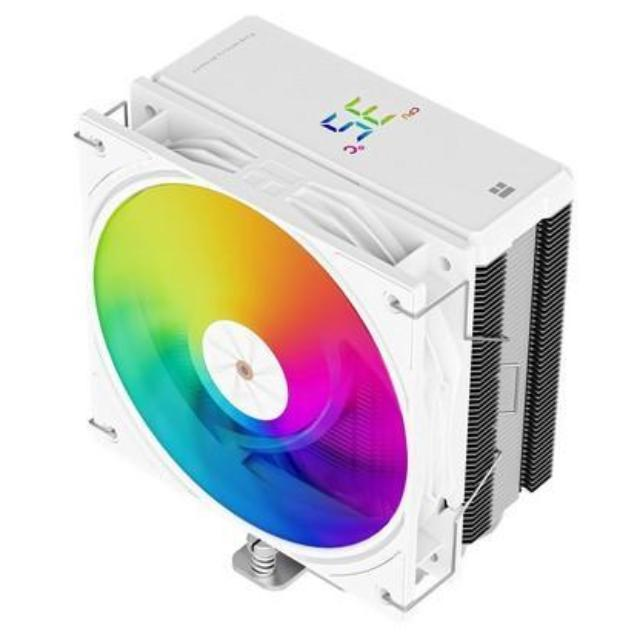CPU_Fan: (66, 12, 568, 618)
